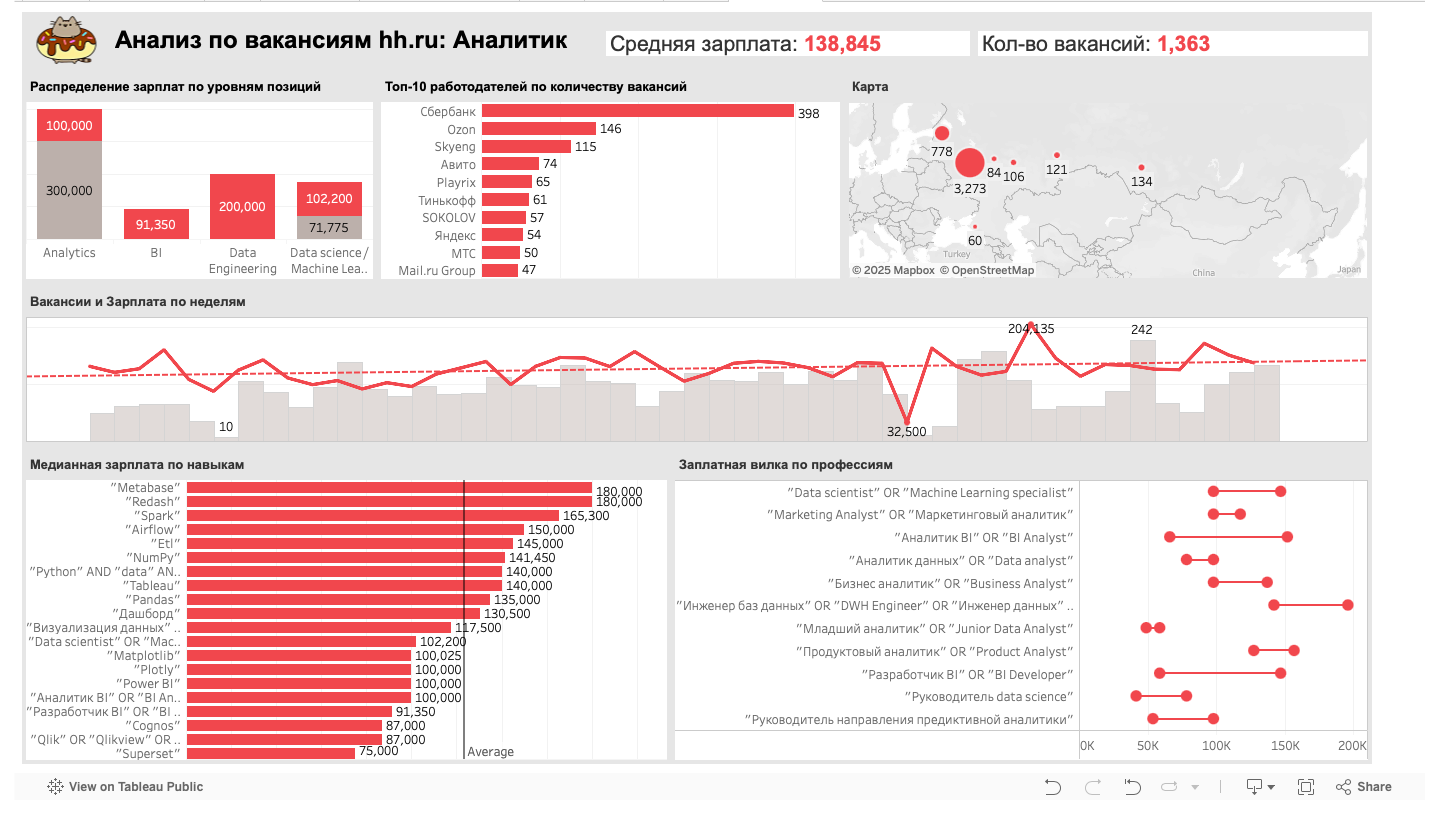

What the dashboard file says about the page in this screenshot:
{"tool":"tableau","page":{"name":"Dashboard 1","canvas":[1366,768],"ordinal":0},"visuals":[{"type":"image","param":"Image/1670034789_kartinkin-net-p-koshka-pusha-vkontakte-34.png","box":[8,8,89,56]},{"type":"text","box":[97,8,491,56]},{"type":"worksheet","title":"Sheet 6","mark":"Automatic","box":[588,8,372,56]},{"type":"worksheet","title":"Sheet 8","mark":"Automatic","box":[960,8,398,56]},{"type":"worksheet","title":"ЗП_Позиция","mark":"Automatic","rows":["salary_net"],"cols":["direction"],"box":[8,64,355,215.1]},{"type":"worksheet","title":"Топ 10 работодателей","mark":"Automatic","rows":["employer_name"],"cols":["Calculation_2034360431337140225"],"box":[363,64,467,215.1]},{"type":"worksheet","title":"Карта","mark":"Circle","box":[830,64,528,215.1]},{"type":"worksheet","title":"Недели","mark":"Automatic","rows":["salary_net","Calculation_2034360431334612992"],"cols":["published_at"],"box":[8,279.1,1350,162.9]},{"type":"worksheet","title":"ЗП по навыкам","mark":"Automatic","rows":["query_string"],"cols":["salary_net"],"box":[8,442,649,318]},{"type":"worksheet","title":"Вилка ЗП","mark":"Circle","rows":["query_string"],"cols":["salary_from"],"box":[657,442,701,318]}]}

Visuals, with their boxes on the page's 1366x768 design canvas (x1, y1, x2, y2). These are canvas units, not pixel positions in the 1440x819 screenshot, which may show the page scaled, cropped or inside an application window:
image: x1=8 y1=8 x2=97 y2=64
text: x1=97 y1=8 x2=588 y2=64
"Sheet 6" worksheet: x1=588 y1=8 x2=960 y2=64
"Sheet 8" worksheet: x1=960 y1=8 x2=1358 y2=64
"ЗП_Позиция" worksheet: x1=8 y1=64 x2=363 y2=279
"Топ 10 работодателей" worksheet: x1=363 y1=64 x2=830 y2=279
"Карта" worksheet (Circle marks): x1=830 y1=64 x2=1358 y2=279
"Недели" worksheet: x1=8 y1=279 x2=1358 y2=442
"ЗП по навыкам" worksheet: x1=8 y1=442 x2=657 y2=760
"Вилка ЗП" worksheet (Circle marks): x1=657 y1=442 x2=1358 y2=760
